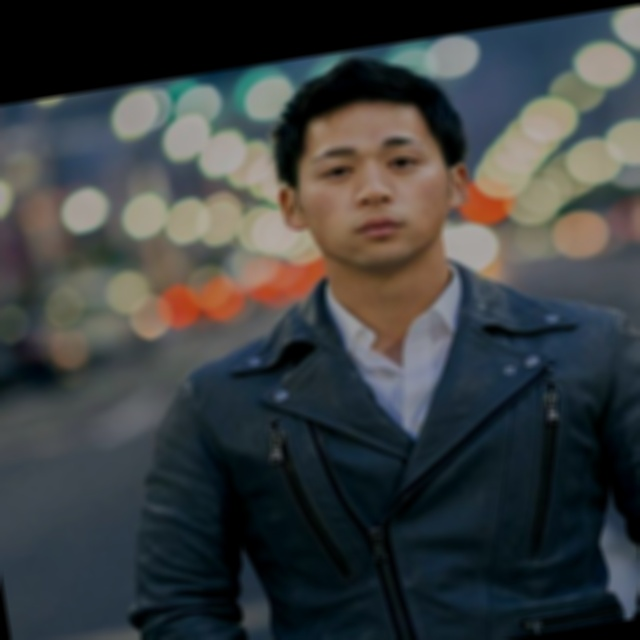Sin_Casco_Mascarrilla: (254, 37, 488, 283)
Sin_Chaleco: (163, 264, 640, 640)
